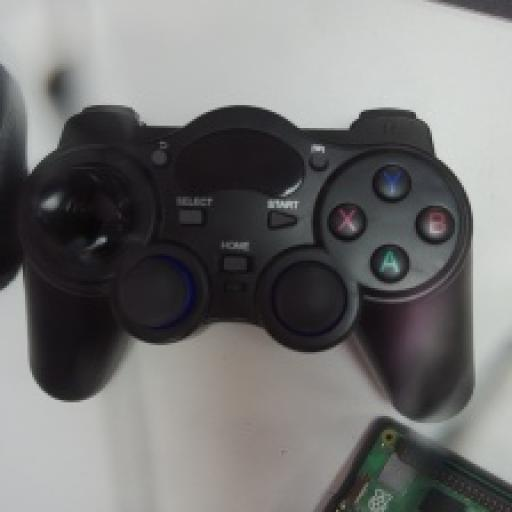game pad: (21, 107, 471, 416)
